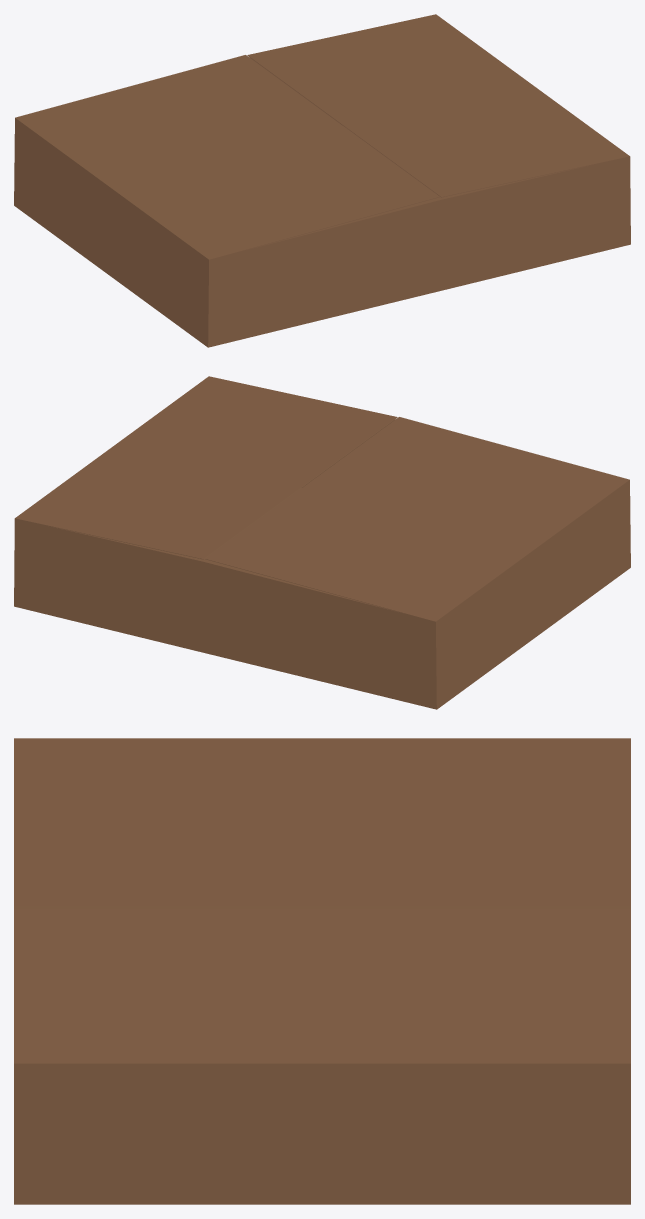
3 views of the same model, one above another, from view 1: azimuth 30°, elevation 25°; view 2: azimuth 150°, elevation 25°; view 3: azimuth 270°, elevation 25° (orthographic). The views are drawn at different scales.
Visible parts, largest first — view 1: Cube.006, Cube, Cube.005, Cube.007; view 2: Cube.006, Cube.002, Cube.005, Cube.007; view 3: Cube.006, Cube.005, Cube.004, Cube.001.
Boxes of the visible parts, left/top/right/bottom form: Cube.006: left=15, top=55, right=439, bottom=259; Cube: left=207, top=156, right=630, bottom=347; Cube.005: left=247, top=14, right=629, bottom=197; Cube.007: left=14, top=118, right=210, bottom=346; Cube.006: left=205, top=417, right=629, bottom=621; Cube.002: left=14, top=518, right=437, bottom=709; Cube.005: left=15, top=376, right=397, bottom=559; Cube.007: left=434, top=480, right=630, bottom=709; Cube.006: left=14, top=738, right=630, bottom=907; Cube.005: left=14, top=909, right=630, bottom=1063; Cube.004: left=14, top=1063, right=630, bottom=1203; Cube.001: left=17, top=907, right=627, bottom=908.
Size of the model in its own units: 0.322 by 0.0686 by 0.256.
